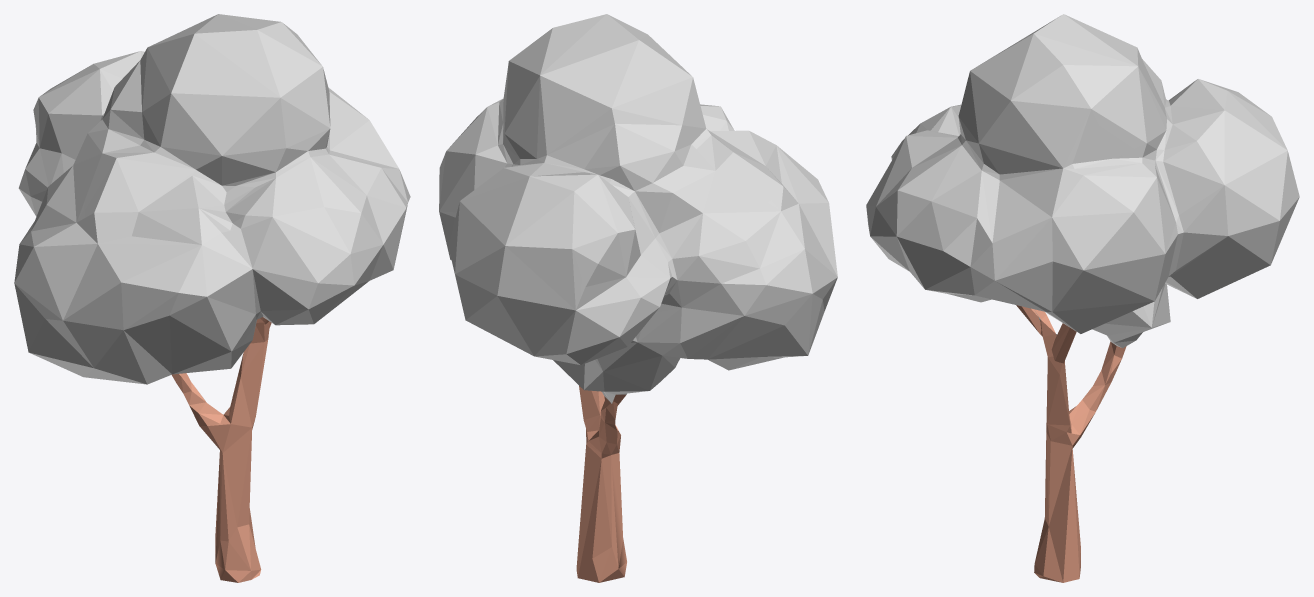
Rendered from NewTree1.fbx.
3 renders of one model, left to right at view 1: azimuth 30°, elevation 25°; view 2: azimuth 150°, elevation 25°; view 3: azimuth 270°, elevation 25°, orthographic.
Parts seen in each view (by area): view 1: Tree1; view 2: Tree1; view 3: Tree1.
Boxes of the visible parts, <box> form: Tree1: <box>14,14,410,582</box>; Tree1: <box>439,14,837,582</box>; Tree1: <box>866,14,1299,582</box>.
Bounding box in the file's own units: 1271 × 1822 × 1318.
